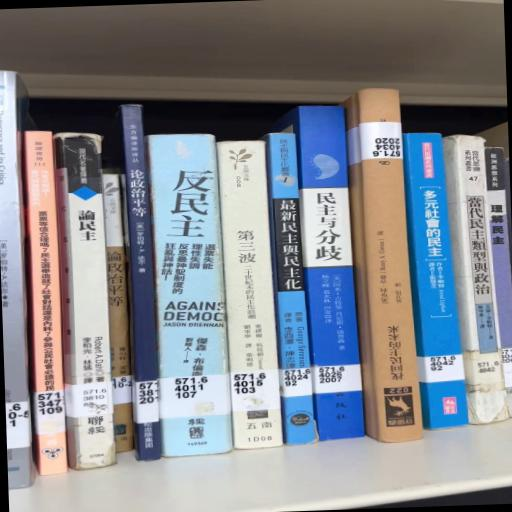reverse: (341, 89, 423, 443)
